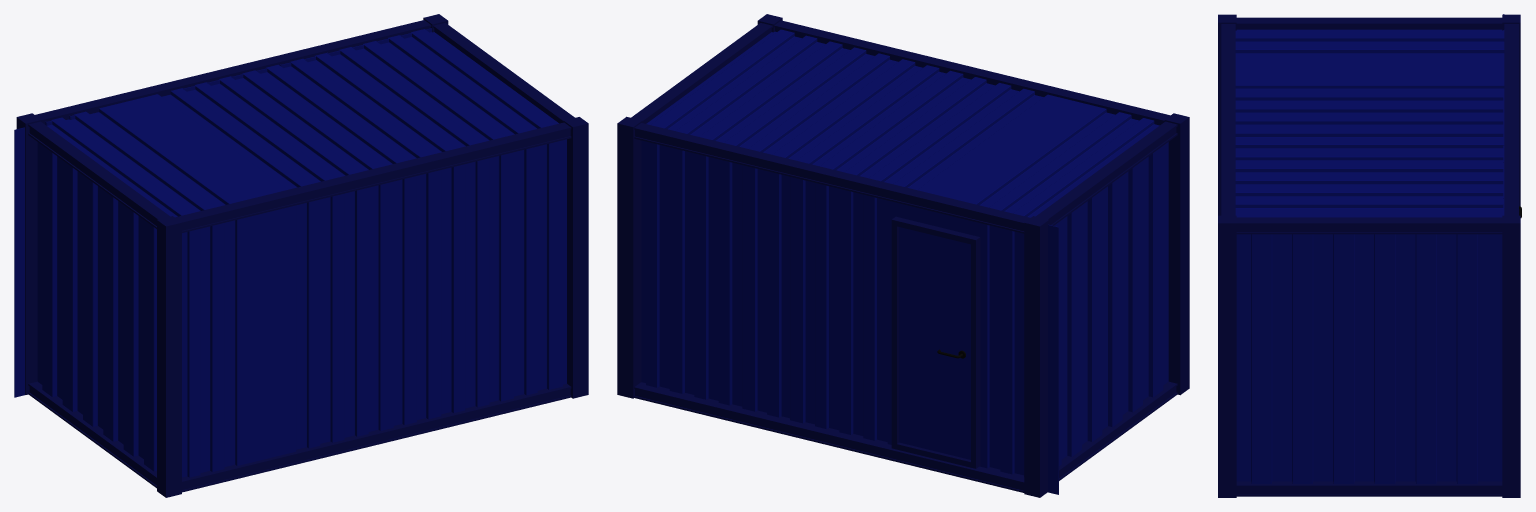
The model's file is Container_oficina.FBX.
The picture shows the model from 3 angles, left to right: view 1: azimuth 30°, elevation 25°; view 2: azimuth 150°, elevation 25°; view 3: azimuth 270°, elevation 25°; orthographic projection.
Visible parts, largest first — view 1: Container_chapa_oficina, Vigas_oficina; view 2: Container_chapa_oficina, Vigas_oficina, Puerta_oficina; view 3: Container_chapa_oficina, Vigas_oficina.
Part boxes in pixels (x1=…): Container_chapa_oficina: x1=14, y1=28, x2=566, y2=477; Vigas_oficina: x1=16, y1=14, x2=588, y2=497; Container_chapa_oficina: x1=641, y1=29, x2=1168, y2=494; Vigas_oficina: x1=617, y1=14, x2=1189, y2=497; Puerta_oficina: x1=891, y1=216, x2=980, y2=468; Container_chapa_oficina: x1=1235, y1=14, x2=1504, y2=483; Vigas_oficina: x1=1218, y1=14, x2=1520, y2=497.
Size of the model in its own units: 410 by 246 by 246.
